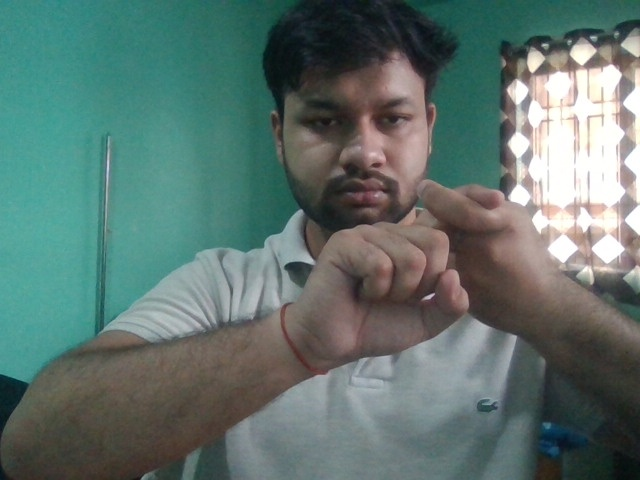Friend: (290, 177, 558, 366)
